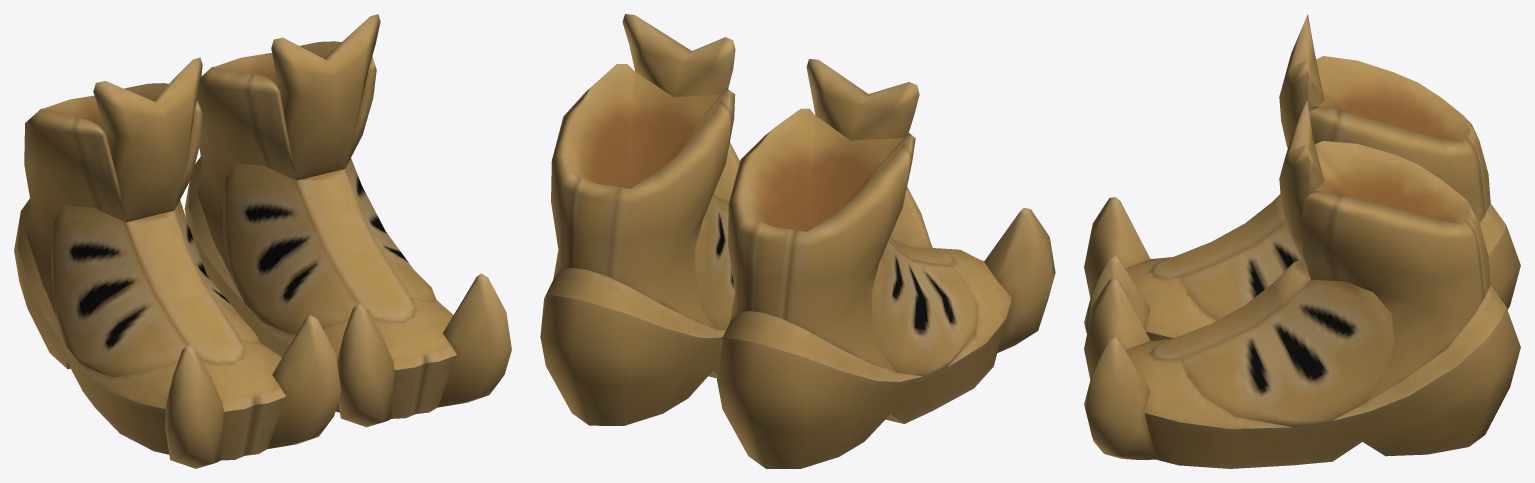
The model's file is p0_ftw1008_00_ftw00.gltf.
The picture shows the model from 3 angles, left to right: view 1: azimuth 30°, elevation 25°; view 2: azimuth 150°, elevation 25°; view 3: azimuth 270°, elevation 25°; orthographic projection. The views are drawn at different scales.
Visible parts, largest first — view 1: ftw00_shoes_mesh_shape:shoes; view 2: ftw00_shoes_mesh_shape:shoes; view 3: ftw00_shoes_mesh_shape:shoes.
Part boxes in pixels (x1,y1,x2,y2): ftw00_shoes_mesh_shape:shoes: (14,14,511,468); ftw00_shoes_mesh_shape:shoes: (540,14,1055,468); ftw00_shoes_mesh_shape:shoes: (1084,14,1520,468).
Size of what is drawn, in the model's own units: 0.2548 by 0.2282 by 0.2888.
Materials: 1 (1 with a texture image).
